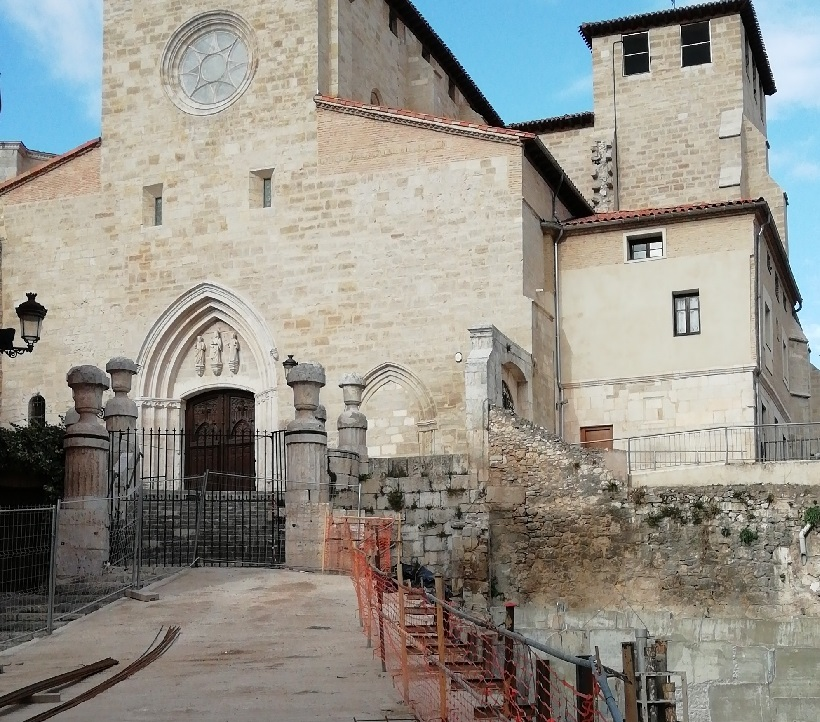arco-apuntado: (150, 294, 268, 389)
